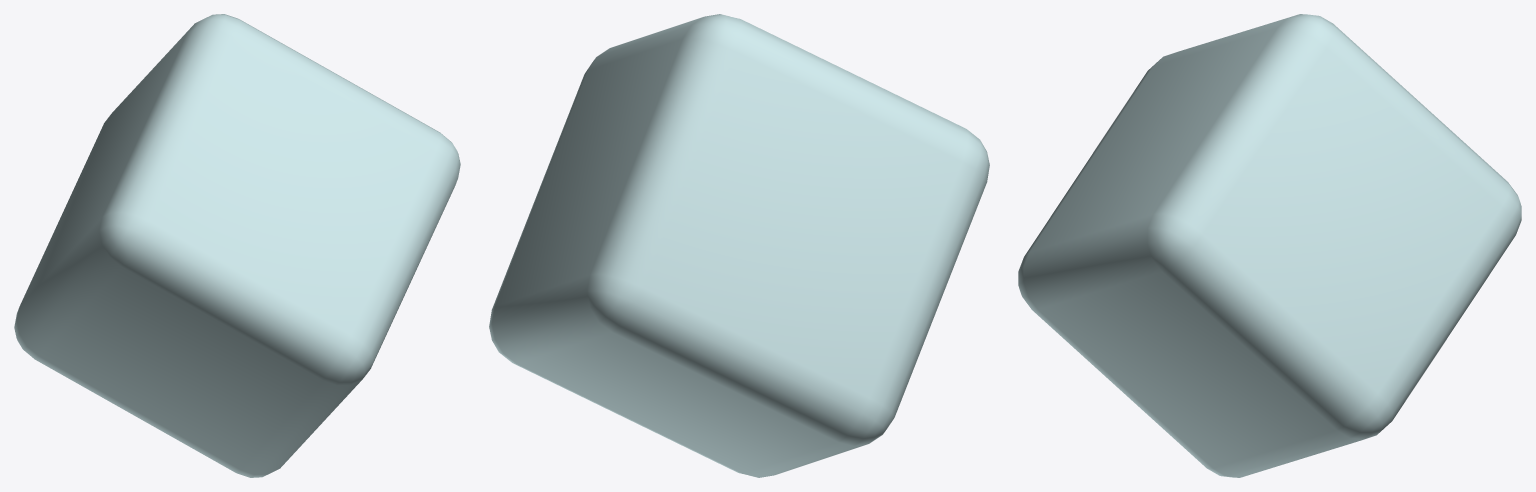
3 views of the same model, side by side, from view 1: azimuth 30°, elevation 25°; view 2: azimuth 150°, elevation 25°; view 3: azimuth 270°, elevation 25° (orthographic). The views are drawn at different scales.
Parts seen in each view (by area): view 1: box; view 2: box; view 3: box.
Boxes of the visible parts, bbox=[...] form: box: bbox=[14, 14, 460, 477]; box: bbox=[489, 14, 989, 477]; box: bbox=[1018, 14, 1521, 477].
Bounding box in the file's own units: 262 × 305 × 305.
